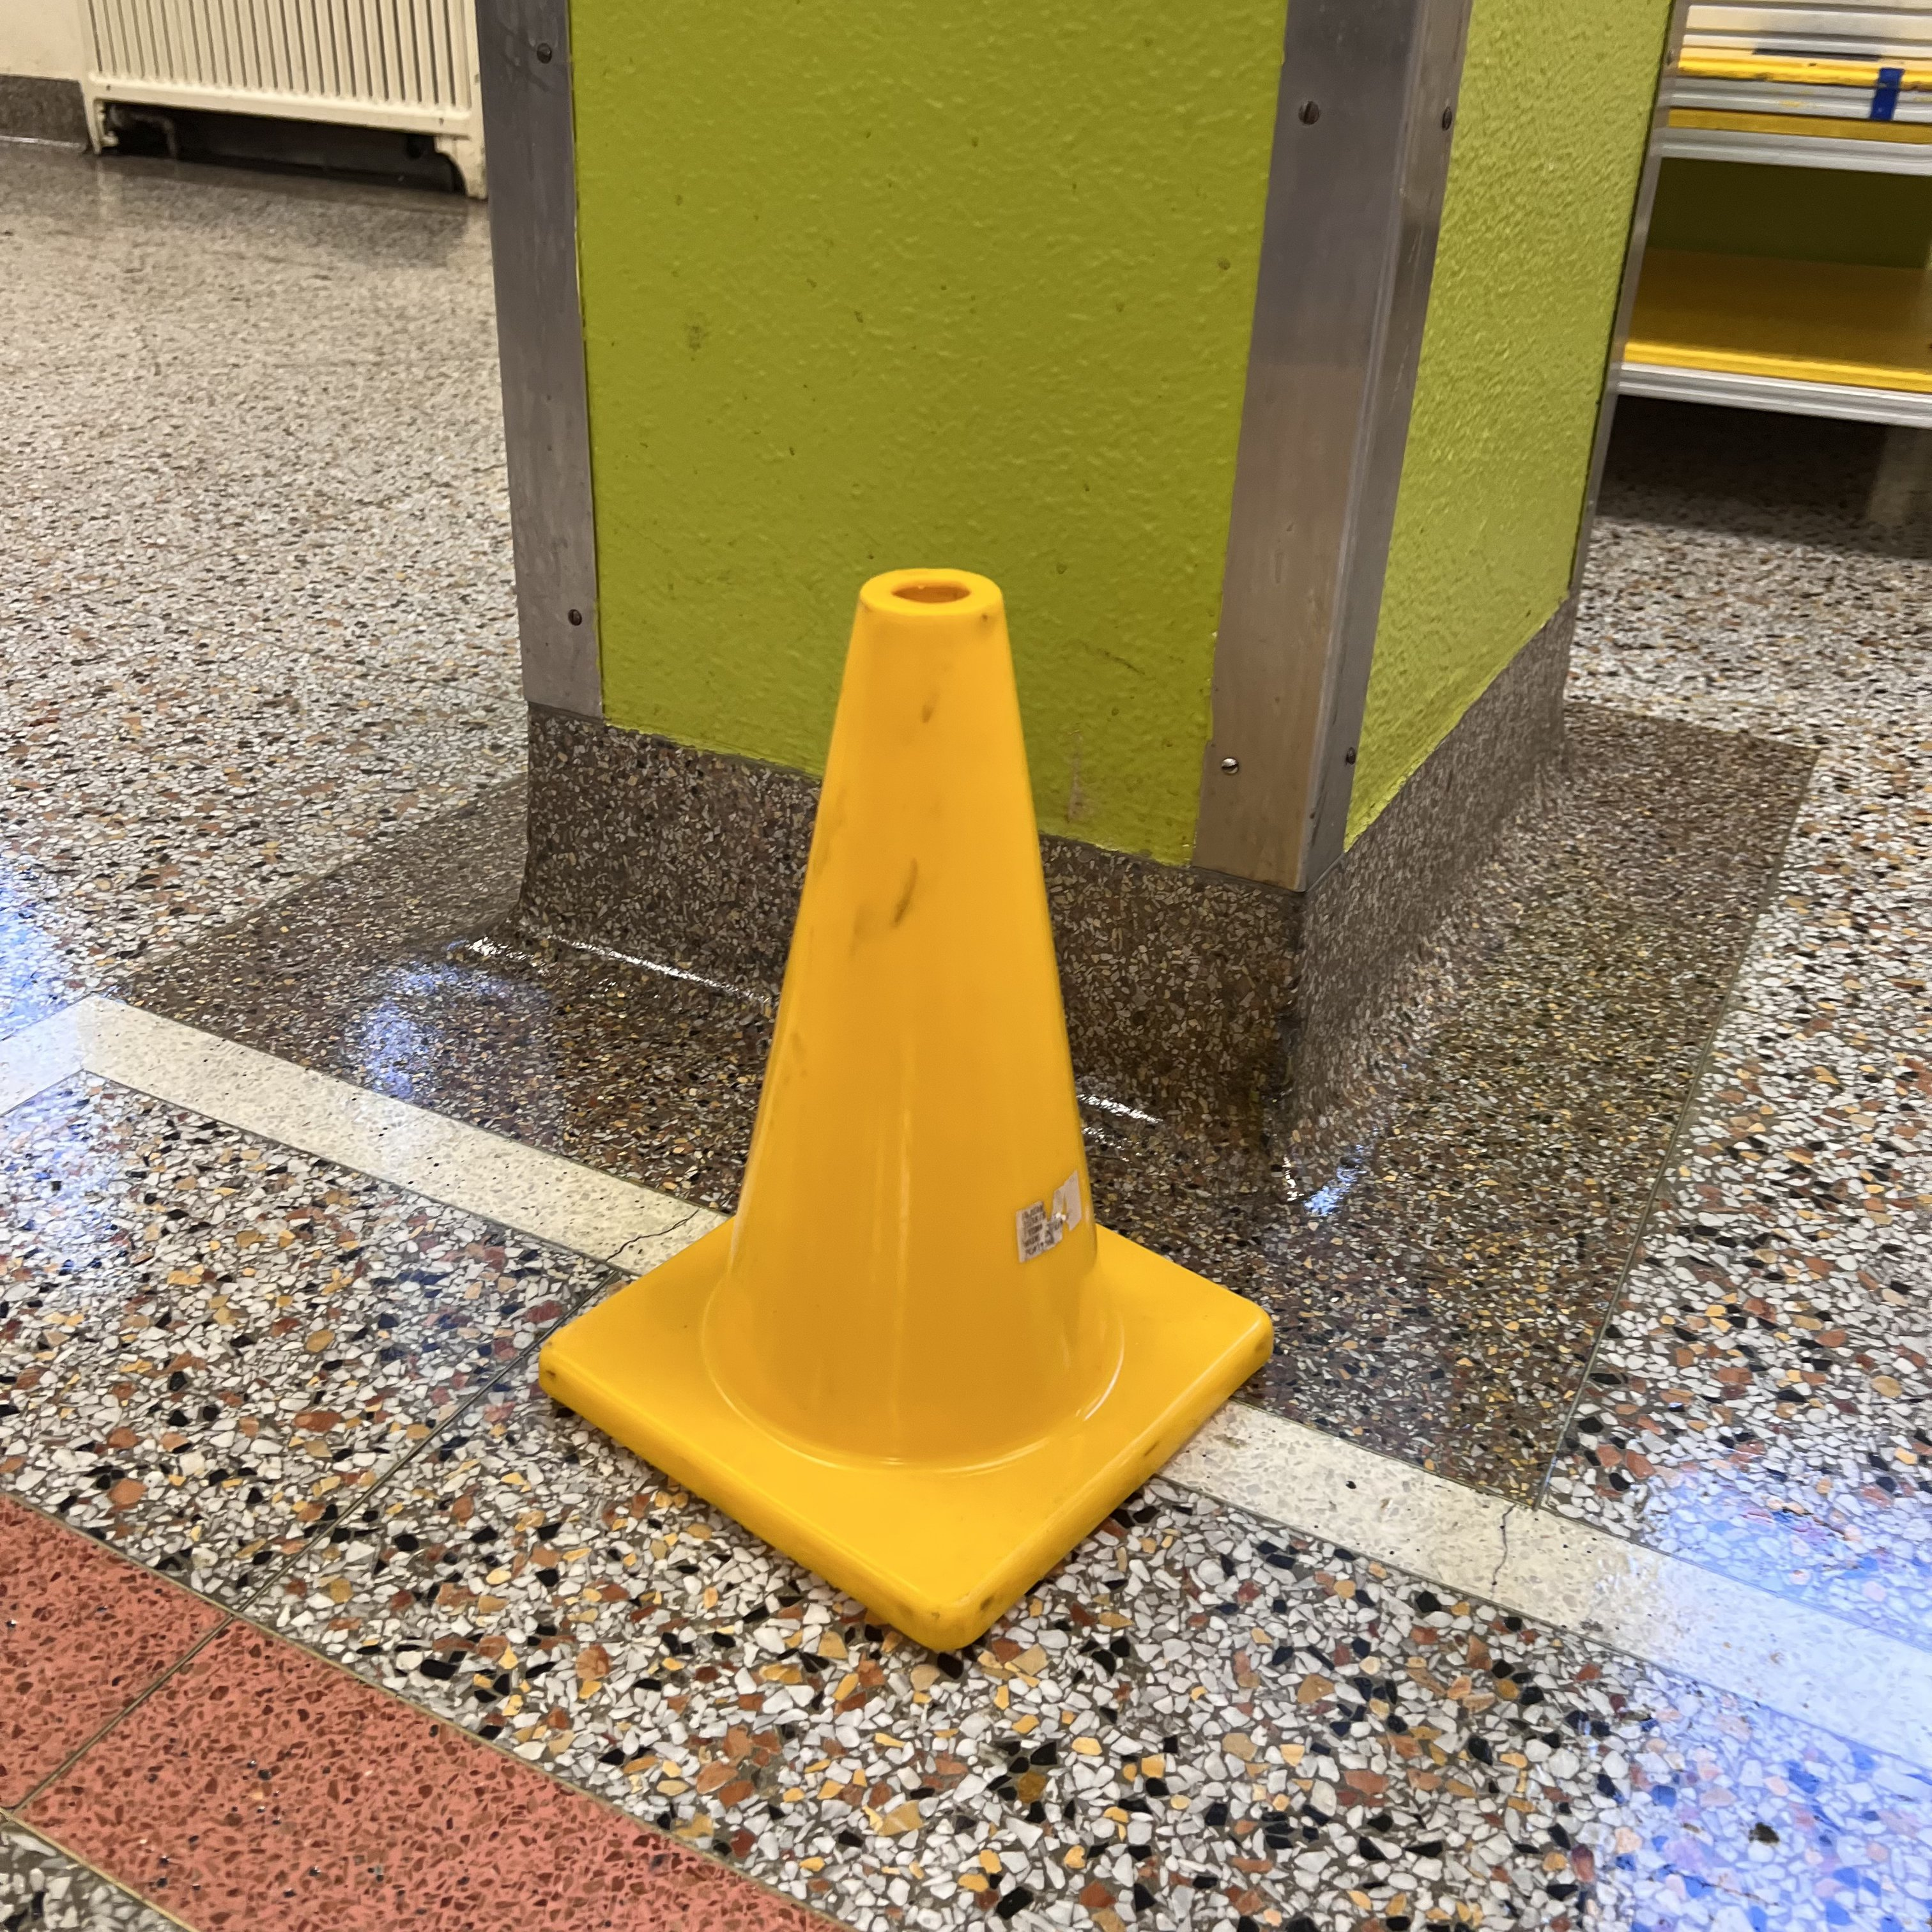cone: (536, 570, 1277, 1651)
